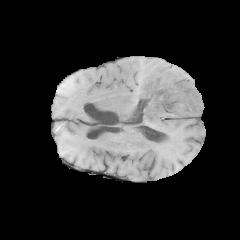glioma: (137, 69, 203, 123)
